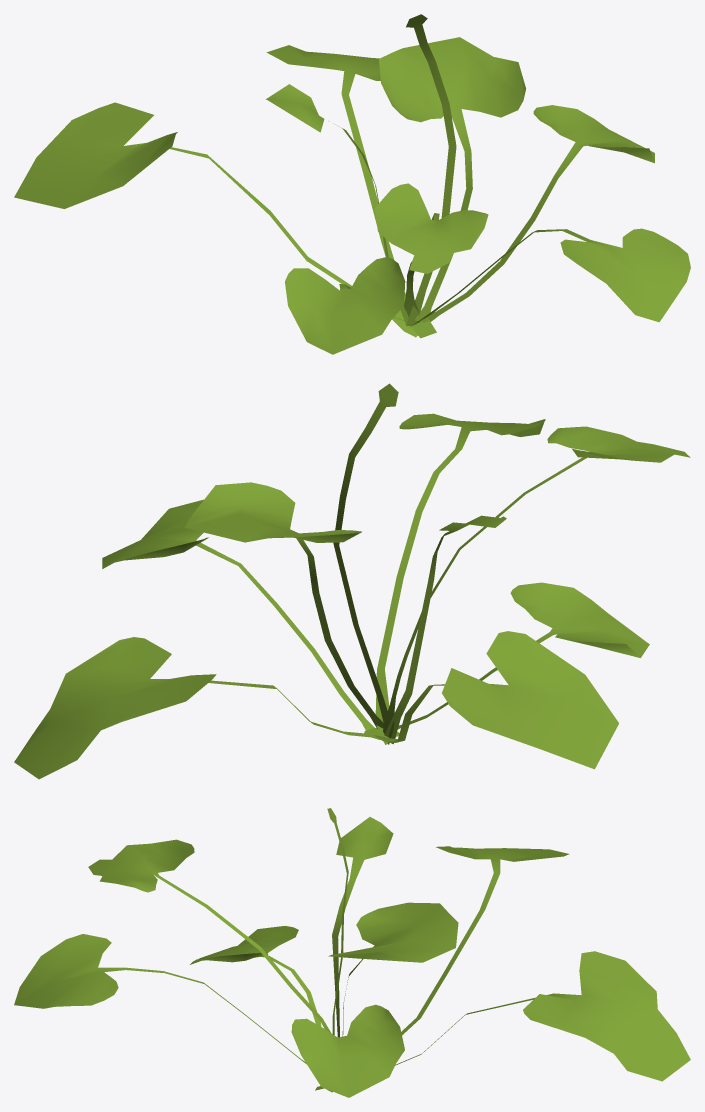
File: groundcover_11.fbx
3 renders of one model, top to bottom at view 1: azimuth 30°, elevation 25°; view 2: azimuth 150°, elevation 25°; view 3: azimuth 270°, elevation 25°, orthographic. The views are drawn at different scales.
Visible parts, largest first — view 1: groundcover_11_LOD0; view 2: groundcover_11_LOD0; view 3: groundcover_11_LOD0.
Part boxes in pixels (x1,y1,x2,y2): groundcover_11_LOD0: [14, 14, 690, 354]; groundcover_11_LOD0: [14, 383, 690, 779]; groundcover_11_LOD0: [14, 808, 690, 1097].
Size of the model in its own units: 0.2531 by 0.1431 by 0.3106.
